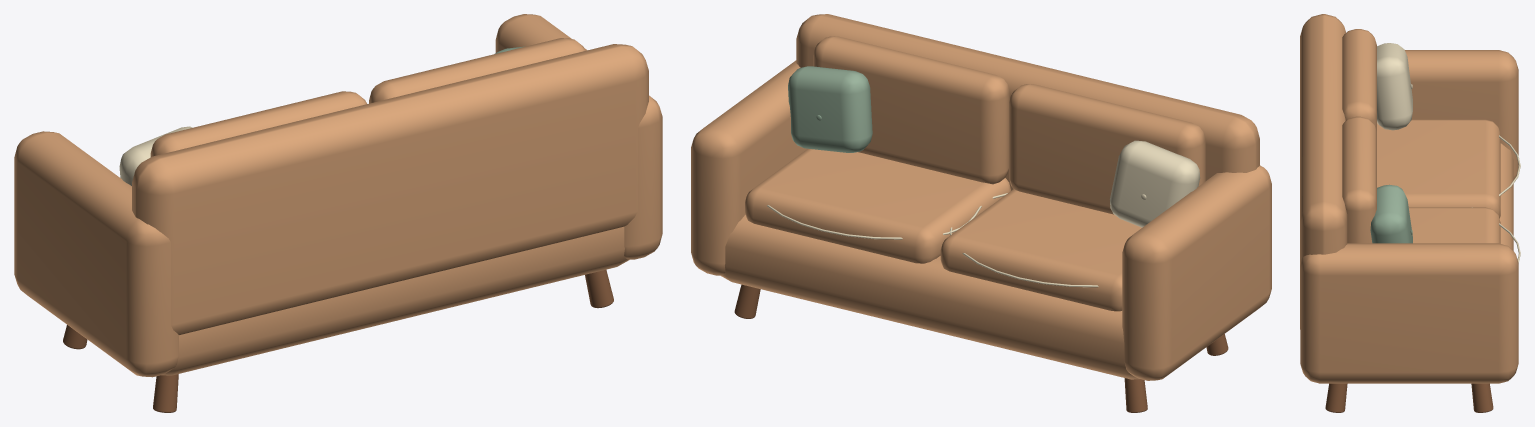
The model's file is sofa.glb.
3 renders of one model, left to right at view 1: azimuth 30°, elevation 25°; view 2: azimuth 150°, elevation 25°; view 3: azimuth 270°, elevation 25°, orthographic. The views are drawn at different scales.
Visible parts, largest first — view 1: SofaRoot.SofaFabric, SofaRoot.OakEdge, SofaRoot.CushionCream; view 2: SofaRoot.SofaFabric, SofaRoot.CushionSage, SofaRoot.CushionCream, SofaRoot.OakEdge; view 3: SofaRoot.SofaFabric, SofaRoot.CushionCream, SofaRoot.CushionSage, SofaRoot.OakEdge.
Boxes of the visible parts, x1,y1,x2,y2 form: SofaRoot.SofaFabric: (14,14,662,377); SofaRoot.OakEdge: (63,270,613,412); SofaRoot.CushionCream: (119,126,192,185); SofaRoot.SofaFabric: (691,14,1271,380); SofaRoot.CushionSage: (788,66,872,152); SofaRoot.CushionCream: (767,140,1200,287); SofaRoot.OakEdge: (734,284,1228,412); SofaRoot.SofaFabric: (1300,14,1518,383); SofaRoot.CushionCream: (1377,43,1520,262); SofaRoot.CushionSage: (1370,184,1412,243); SofaRoot.OakEdge: (1325,383,1493,412).
Size of the model in its own units: 2.05 by 0.9579 by 0.8902.
